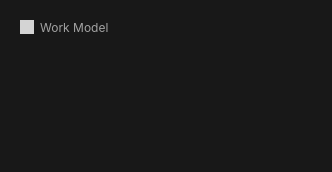
Test: ModelSelector interaction › reuses catalogs across conversations and keeps a late response with its own account
Later steps or results of the test are not shown.
Expected: the text with class "model-selector-name" reads "Work Model", [40,20,108,34]
Click the button with class "model-selector-trigger" at (74, 27), box [12,14,136,40]
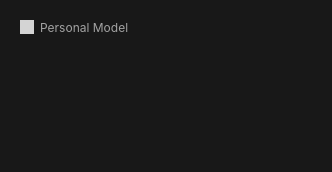
Expected: the text with class "model-selector-name" reads "Personal Model", [40,20,128,34]
